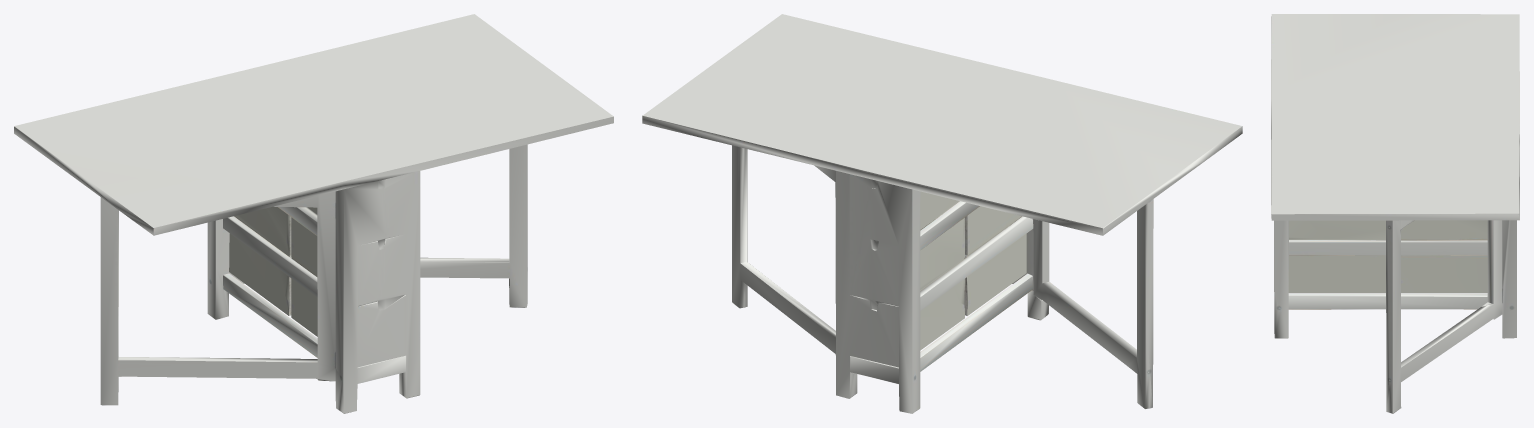
File: norden_sto_z_opuszczanym_blatem_10423886.glb
3 renders of one model, left to right at view 1: azimuth 30°, elevation 25°; view 2: azimuth 150°, elevation 25°; view 3: azimuth 270°, elevation 25°, orthographic. The views are drawn at different scales.
Visible parts, largest first — view 1: norden_sto_z_opuszczanym_blatem_10423886; view 2: norden_sto_z_opuszczanym_blatem_10423886; view 3: norden_sto_z_opuszczanym_blatem_10423886.
Boxes of the visible parts, x1,y1,x2,y2 form: norden_sto_z_opuszczanym_blatem_10423886: (14, 14, 613, 413); norden_sto_z_opuszczanym_blatem_10423886: (642, 14, 1242, 413); norden_sto_z_opuszczanym_blatem_10423886: (1271, 14, 1519, 413).
Bounding box in the file's own units: 1.52 × 0.7427 × 0.8012.
Materials: 1 (1 with a texture image).
